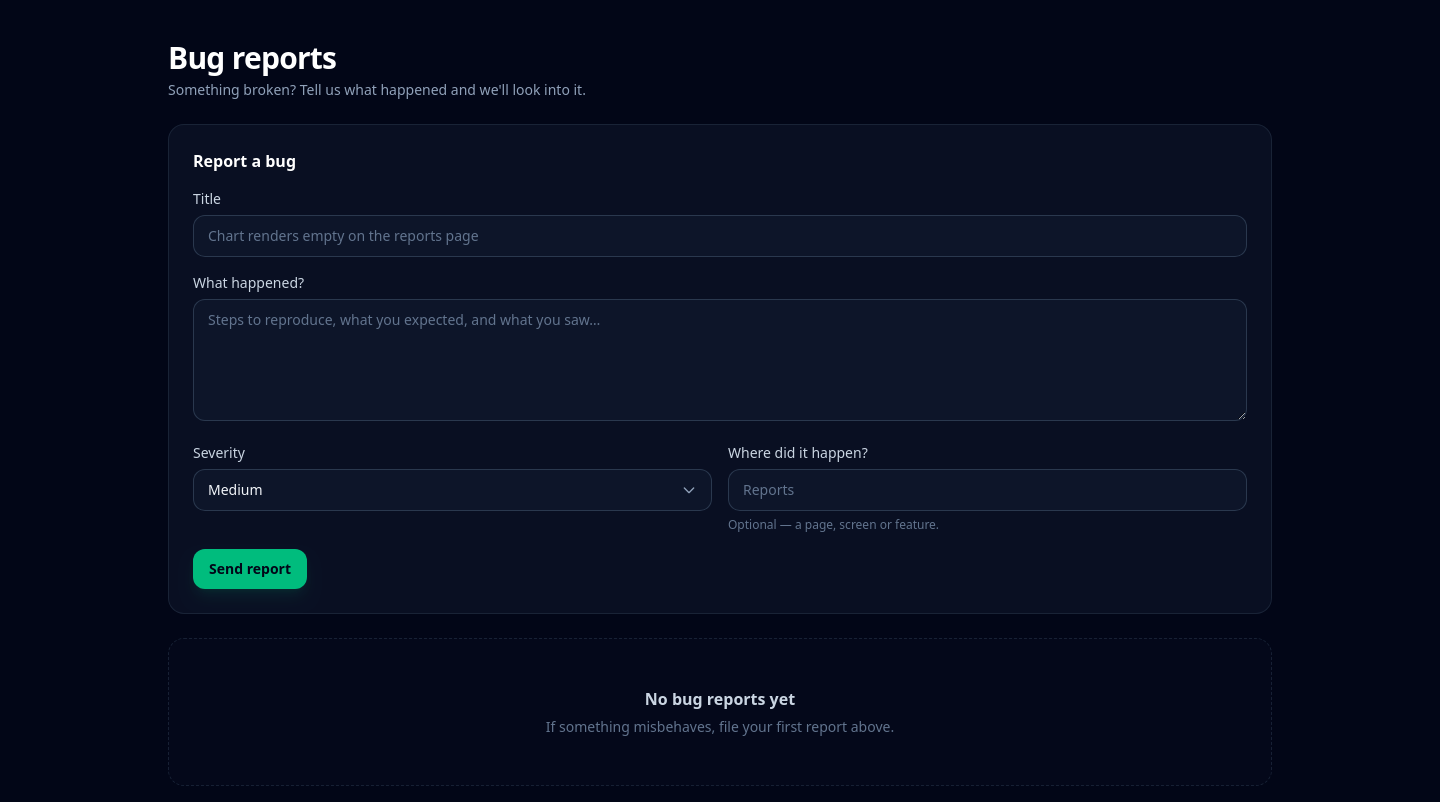
Scenario: BugReportsPage › creates a report, tagging it as coming from the web client
Check: the text "No bug reports yet" is shown, box [645, 688, 795, 710]
Type "Wrong balance" into the field labelled "Title". click: (720, 236)
box: [193, 215, 1247, 257]
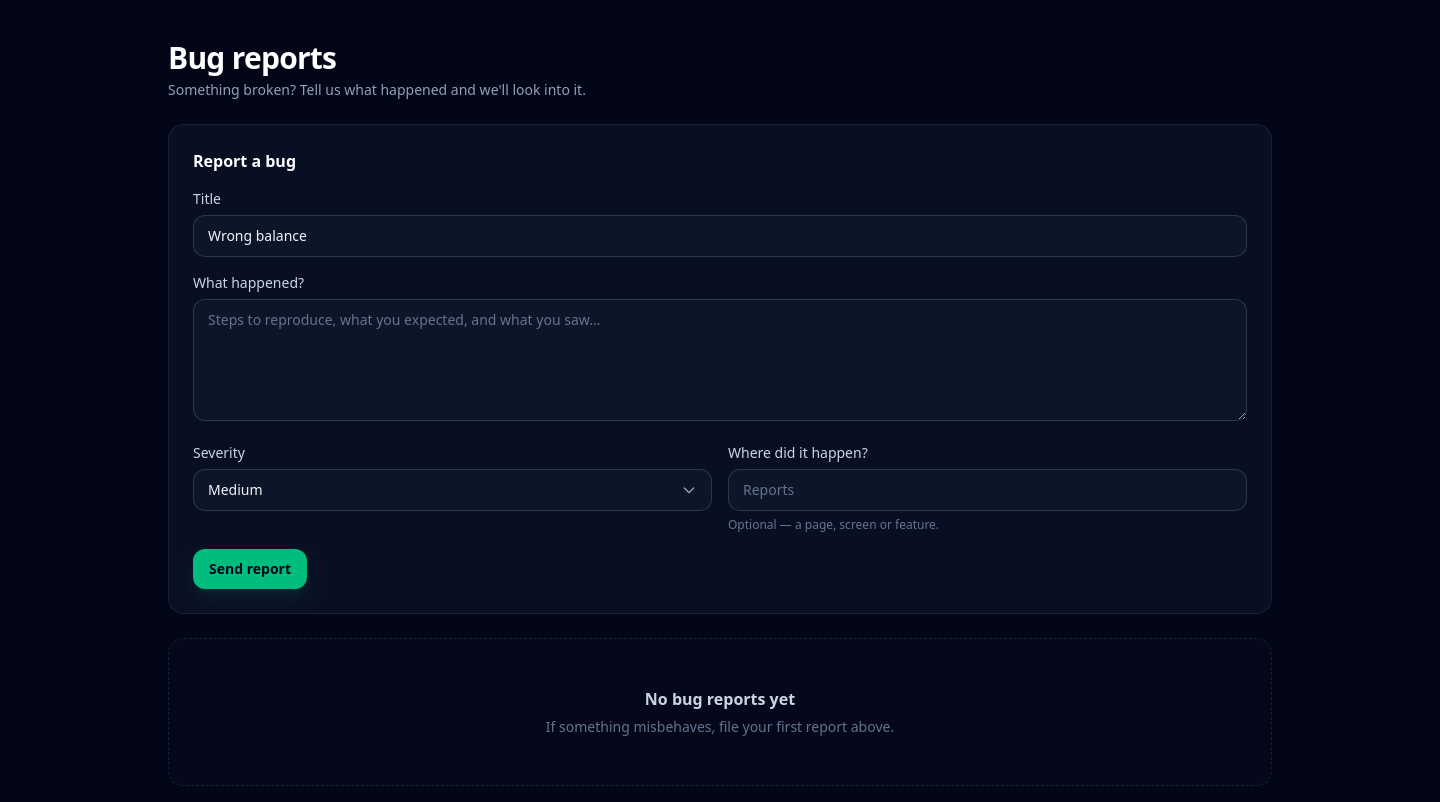
Type "Balance is off by one taka." into the text box labelled "What happened?". click: (720, 360)
box: [193, 299, 1247, 421]
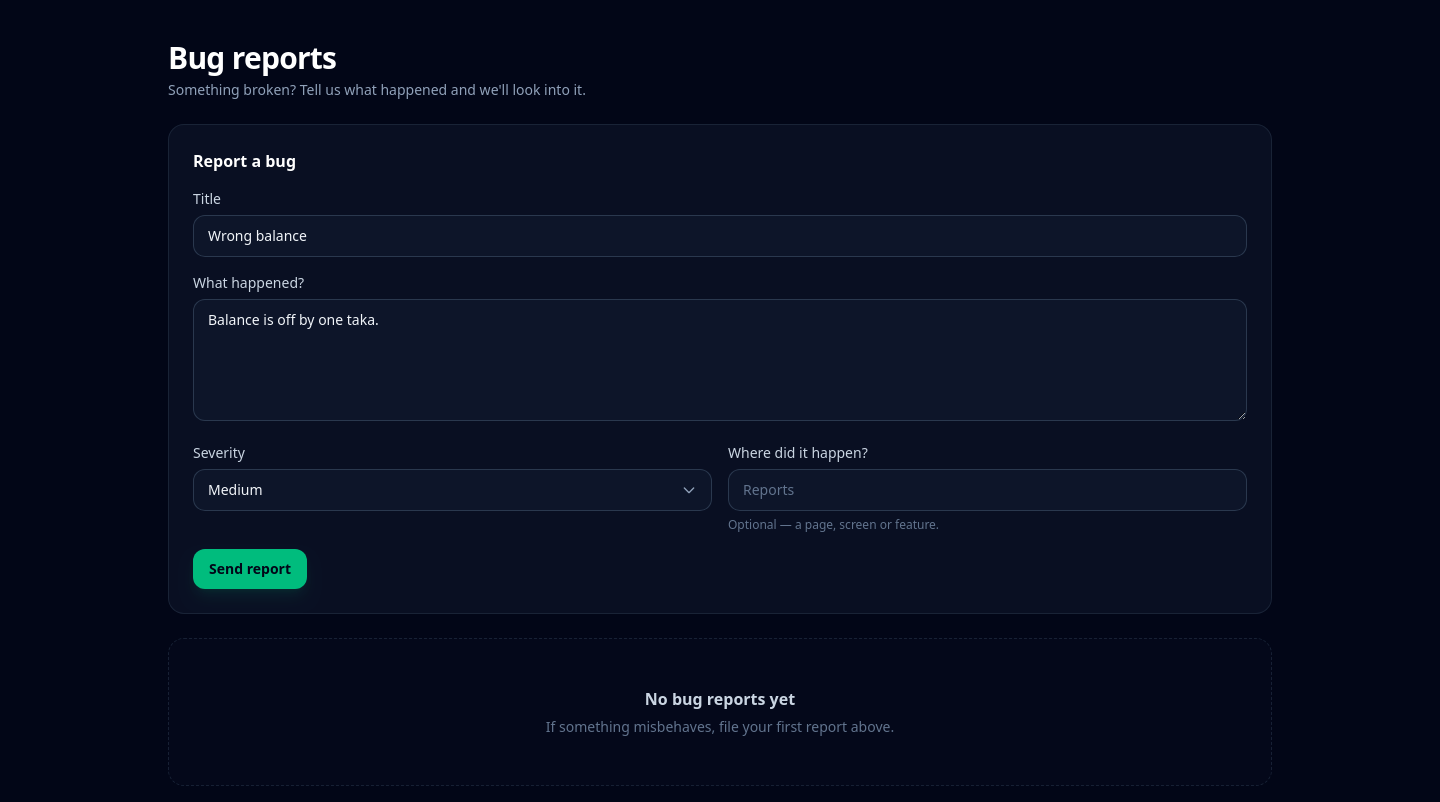
Click the button "Send report". click: (250, 569)
box: [193, 549, 307, 589]
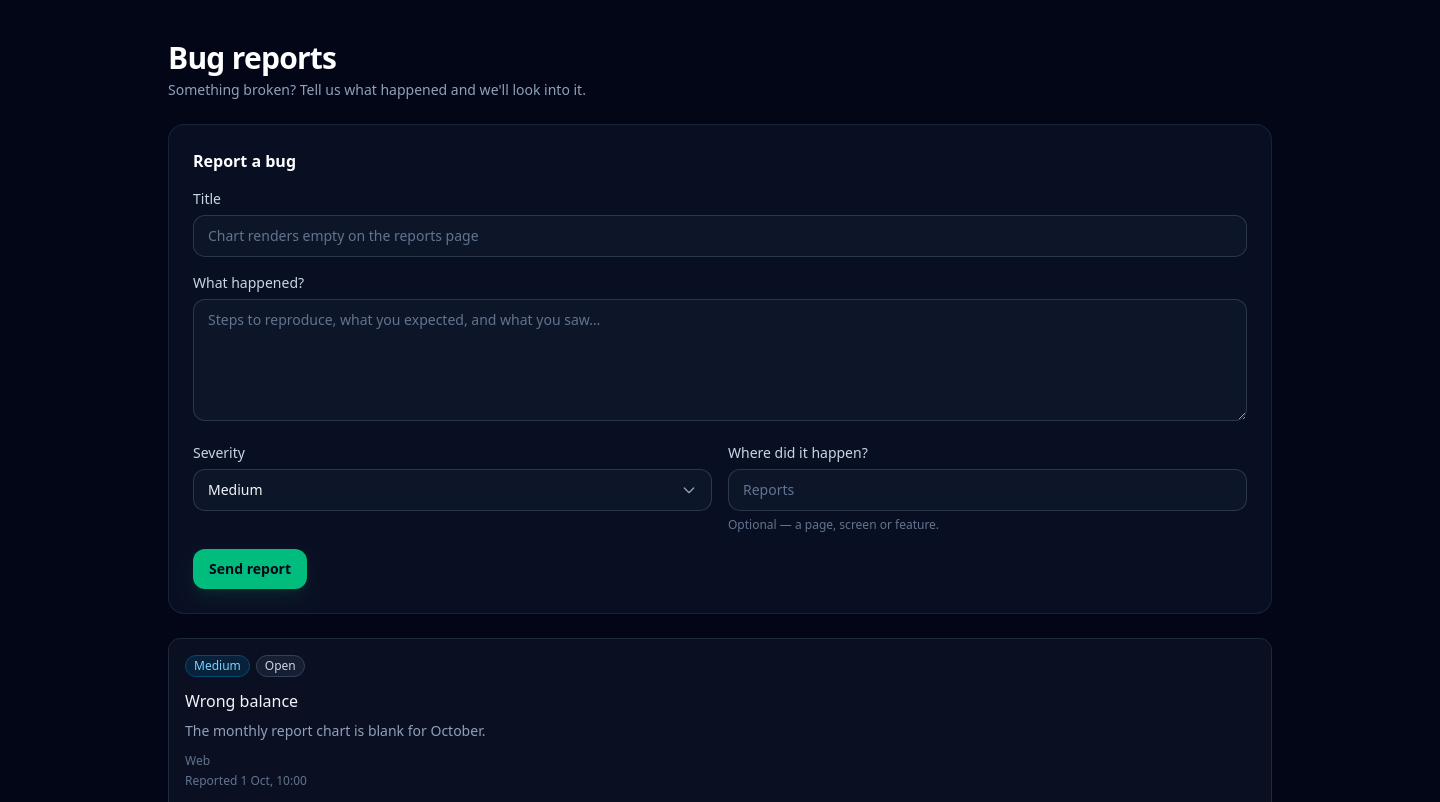
Check: the heading "Wrong balance" is shown, box [185, 690, 298, 712]
